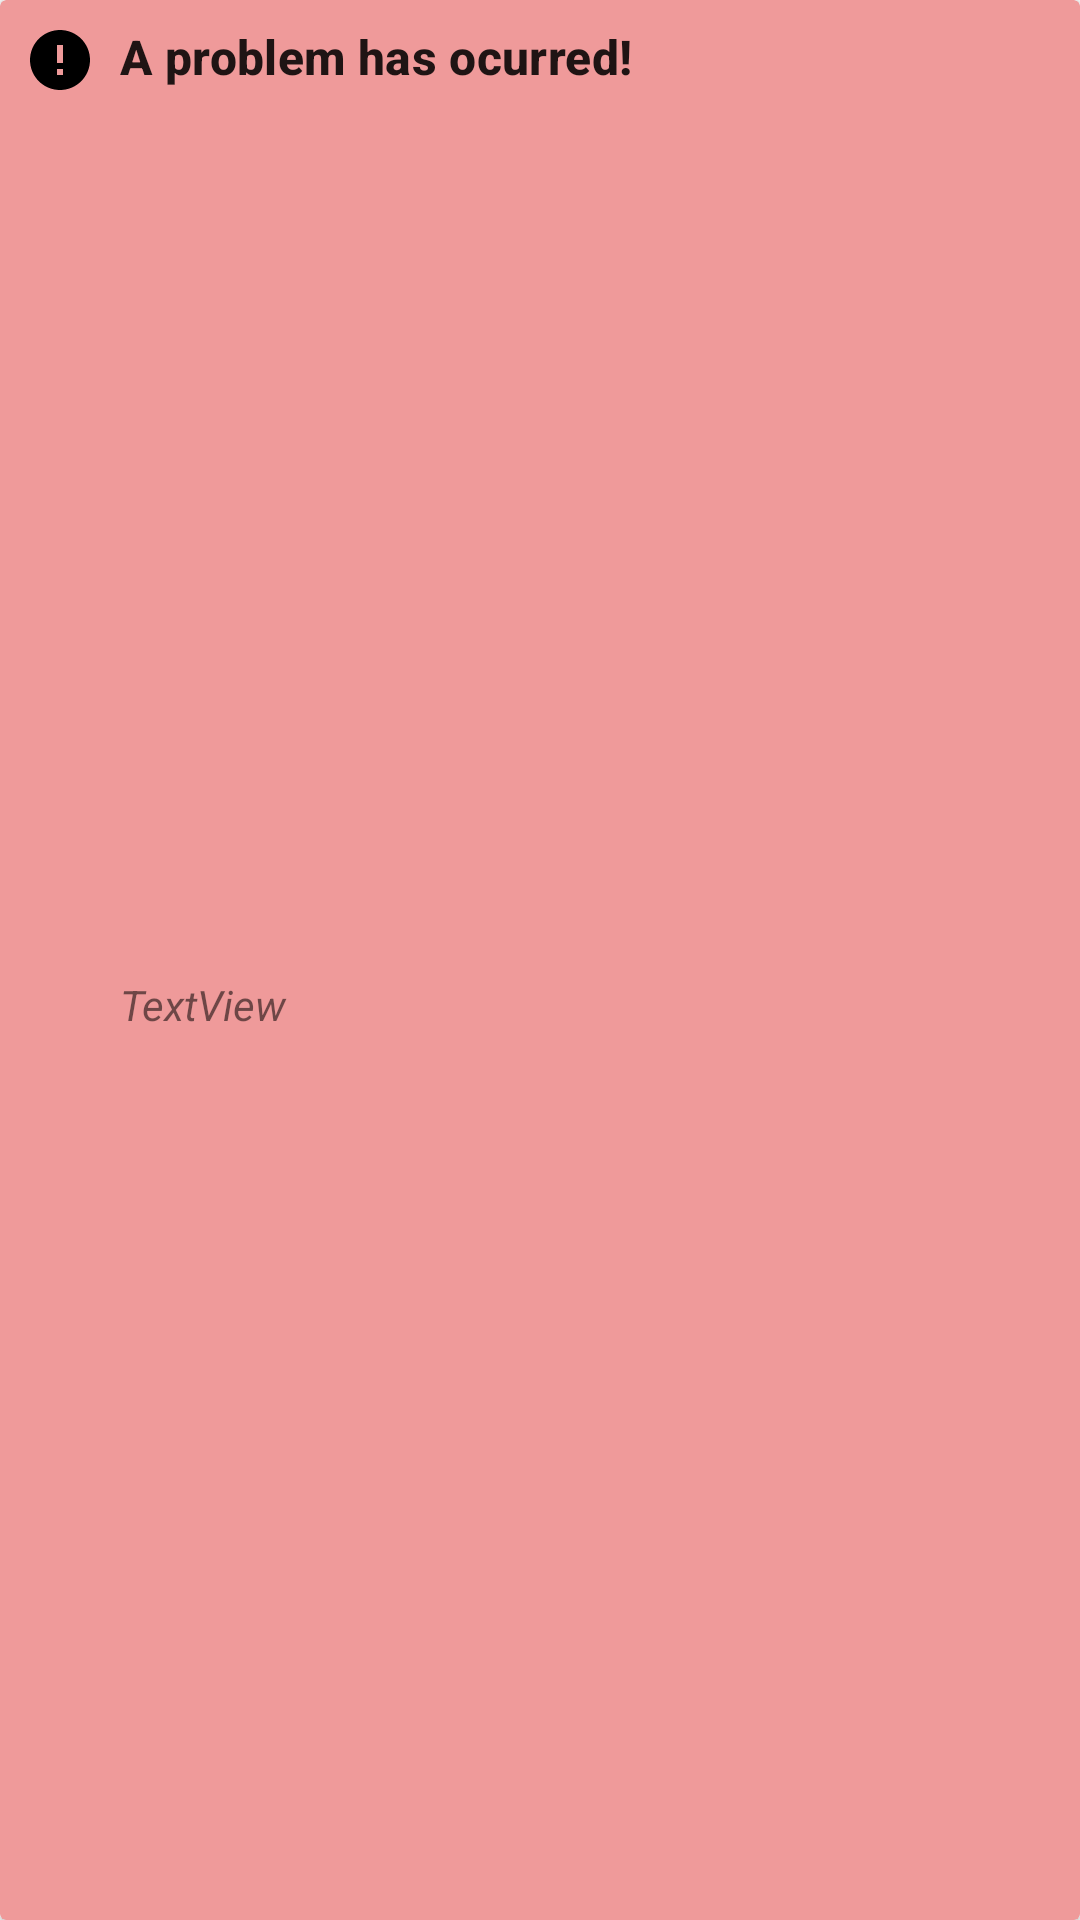

Screen size 1080×1920. Icon name, then its box in pixels as (x1, y1, x2, y2):
error: (30, 30, 90, 90)
